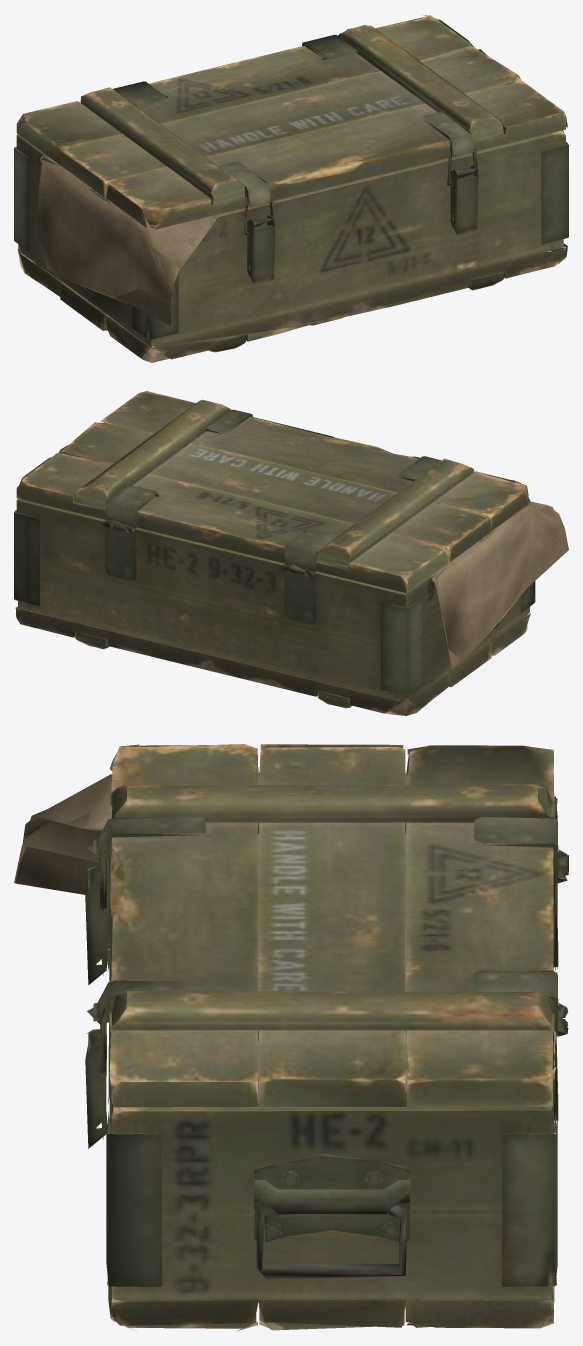
Rendered from army_crate.glb.
The picture shows the model from 3 angles, top to bottom: view 1: azimuth 30°, elevation 25°; view 2: azimuth 150°, elevation 25°; view 3: azimuth 270°, elevation 25°; orthographic projection. The views are drawn at different scales.
Visible parts, largest first — view 1: old_military_crate_lid_a; view 2: old_military_crate_lid_a; view 3: old_military_crate_lid_a.
Part boxes in pixels (box(x1,y1,x2,y2)): old_military_crate_lid_a: box(14, 14, 568, 362); old_military_crate_lid_a: box(14, 391, 568, 715); old_military_crate_lid_a: box(14, 744, 568, 1330).
Bounding box in the file's own units: 0.8138 × 0.3005 × 0.5385.
Materials: 1 (1 with a texture image).
